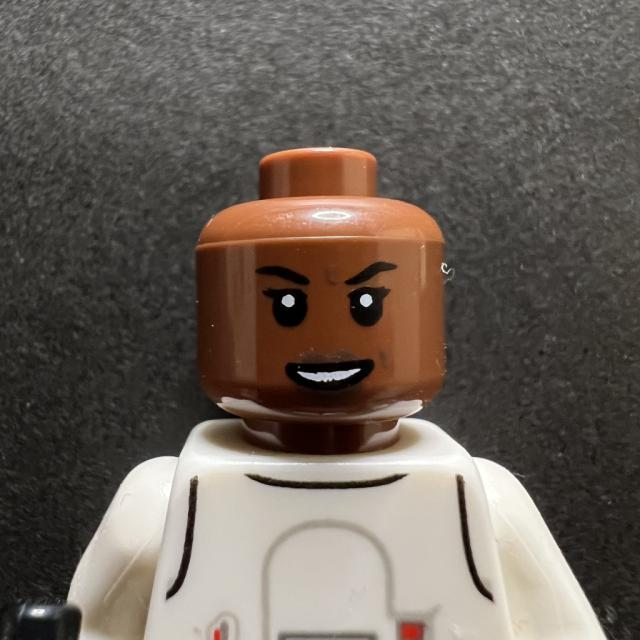lego: (182, 138, 467, 442)
